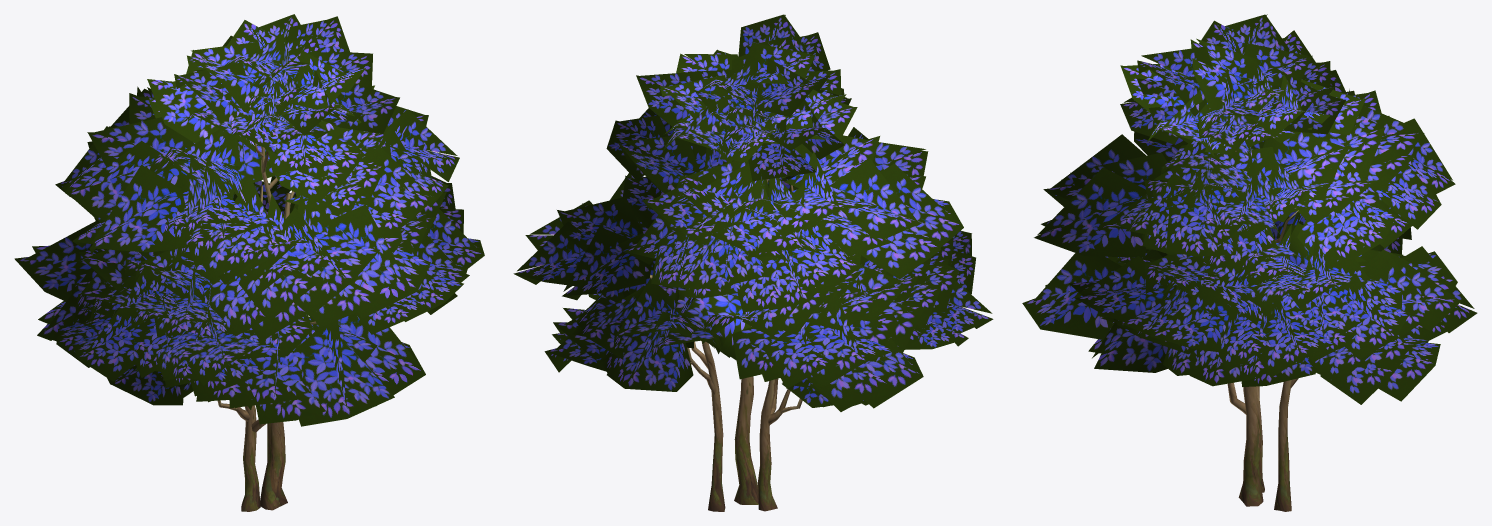
Rendered from Homeworld_Exterior_Dq_Plant_Grass_Island_03_Lod0.fbx.
3 views of the same model, side by side, from view 1: azimuth 30°, elevation 25°; view 2: azimuth 150°, elevation 25°; view 3: azimuth 270°, elevation 25° (orthographic). The views are drawn at different scales.
Parts seen in each view (by area): view 1: Area_Dq_Tree_Common_Ls_03_08_Leaf_Lod0, Area_Dq_Tree_Common_Ls_03_08_Bark_Lod0; view 2: Area_Dq_Tree_Common_Ls_03_08_Leaf_Lod0, Area_Dq_Tree_Common_Ls_03_08_Bark_Lod0; view 3: Area_Dq_Tree_Common_Ls_03_08_Leaf_Lod0, Area_Dq_Tree_Common_Ls_03_08_Bark_Lod0.
Part boxes in pixels (bbox=[...]): Area_Dq_Tree_Common_Ls_03_08_Leaf_Lod0: bbox=[14, 14, 484, 426]; Area_Dq_Tree_Common_Ls_03_08_Bark_Lod0: bbox=[183, 114, 316, 511]; Area_Dq_Tree_Common_Ls_03_08_Leaf_Lod0: bbox=[513, 14, 993, 411]; Area_Dq_Tree_Common_Ls_03_08_Bark_Lod0: bbox=[649, 179, 802, 511]; Area_Dq_Tree_Common_Ls_03_08_Leaf_Lod0: bbox=[1022, 14, 1477, 404]; Area_Dq_Tree_Common_Ls_03_08_Bark_Lod0: bbox=[1227, 150, 1298, 511].
Size of the model in its own units: 8.73 by 9.16 by 8.19.
